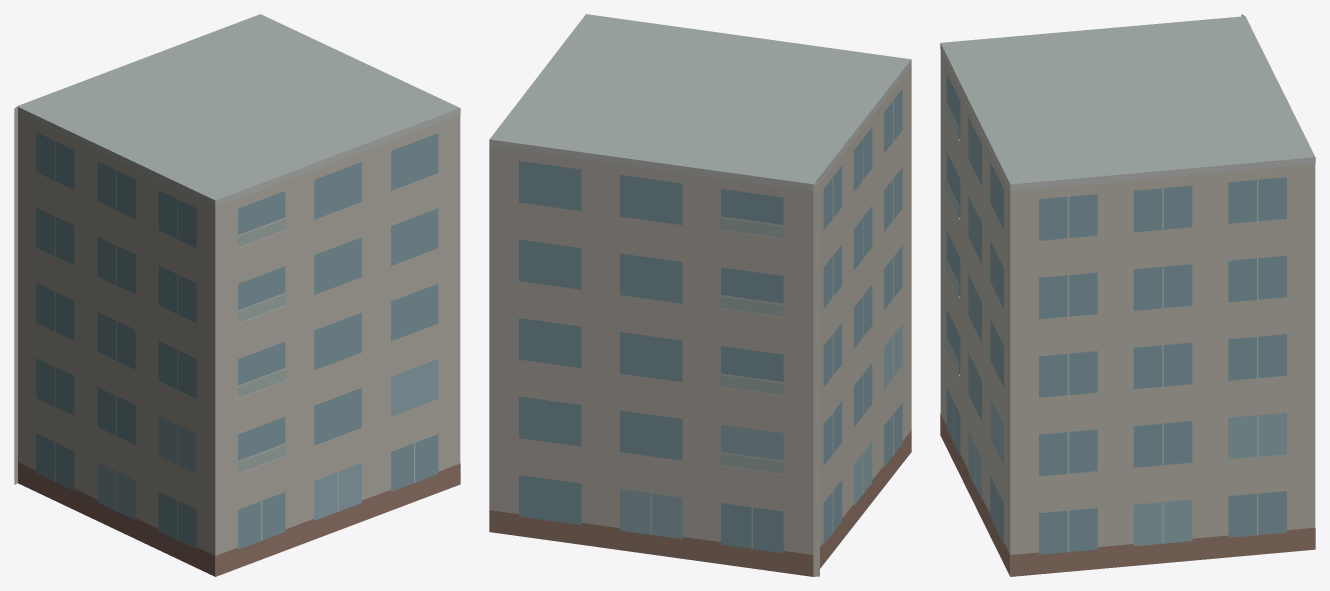
Rendered from survey-upis-32975251.glb.
3 renders of one model, left to right at view 1: azimuth 30°, elevation 25°; view 2: azimuth 150°, elevation 25°; view 3: azimuth 270°, elevation 25°, orthographic. The views are drawn at different scales.
Parts seen in each view (by area): view 1: survey-upis-32975251.tmp; view 2: survey-upis-32975251.tmp; view 3: survey-upis-32975251.tmp.
Part boxes in pixels (box(x1,y1,x2,y2)): survey-upis-32975251.tmp: box(14, 14, 460, 576); survey-upis-32975251.tmp: box(489, 14, 911, 576); survey-upis-32975251.tmp: box(940, 14, 1315, 576).
Size of the model in its own units: 12.96 by 13.9 by 12.05.
